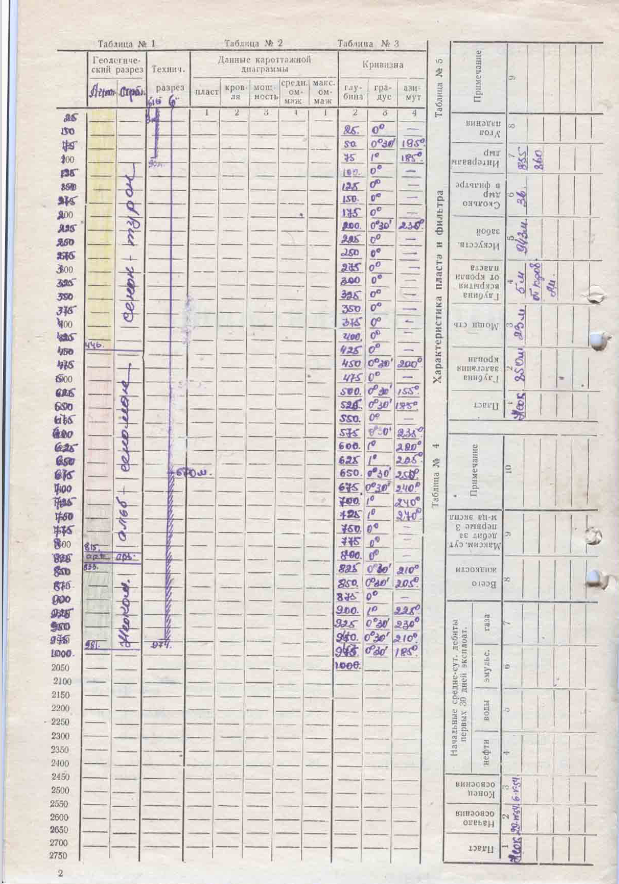Bordered: (337, 49, 426, 699)
